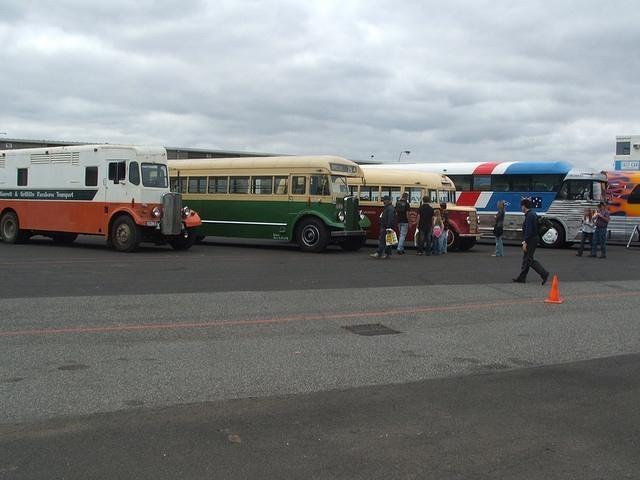bus: (372, 162, 610, 246), (170, 154, 371, 252), (364, 165, 483, 248), (598, 170, 640, 246)
truck: (0, 146, 203, 250)
